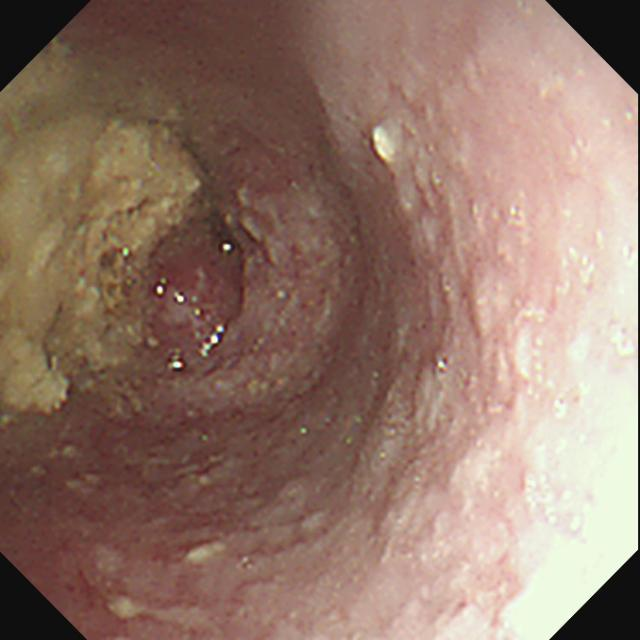B: (2, 71, 206, 419)
U: (370, 126, 398, 170), (200, 323, 227, 360), (156, 280, 185, 305)
